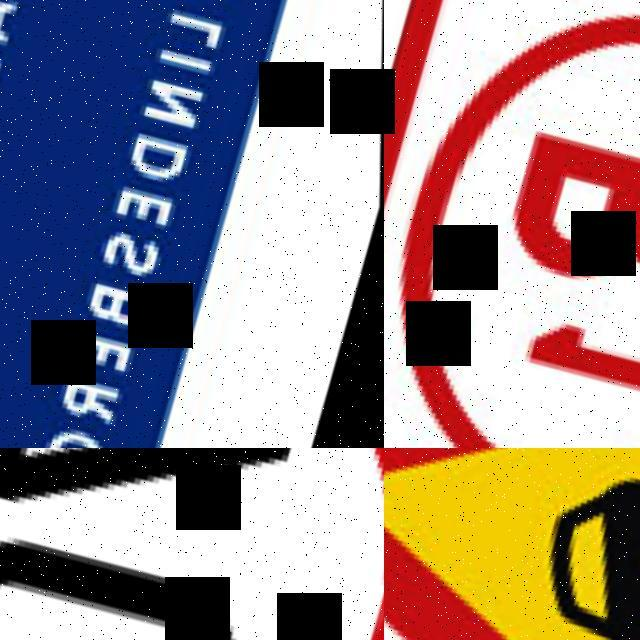105: (384, 0, 640, 448)
83: (0, 0, 320, 448)
Slippery road: (384, 448, 640, 640)
speed limit-70: (0, 448, 384, 640)
